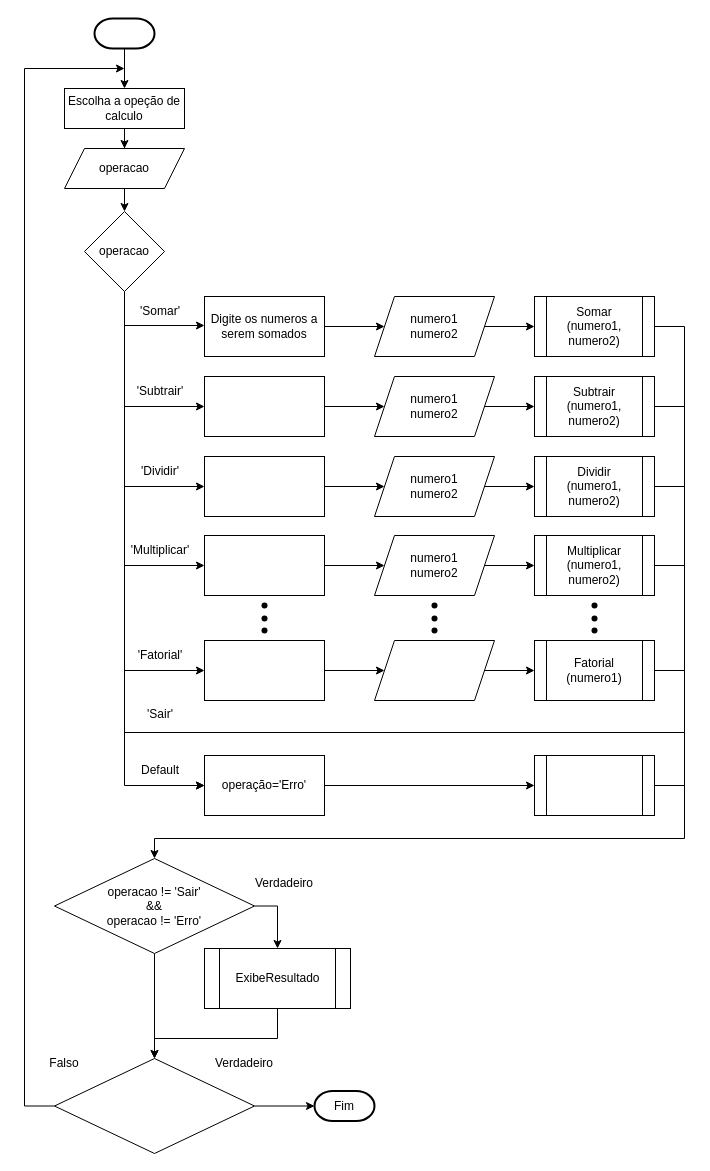
The diagram is 710 pixels wide and 1171 high, and some of its shapes have lost their labels. The box of each missing label's shape, as (x1, y1, x2, y2) in pixels:
Digite os numeros a serem dividido: (204, 456, 324, 516)
Digite os numeros a serem fatorial: (204, 640, 324, 700)
Digite os numeros a serem multiplicado: (204, 534, 324, 596)
Digite os numeros a serem subtraidos: (204, 376, 324, 436)
ExibeMensagem DeErro: (534, 754, 654, 816)
Início: (93, 17, 155, 49)
numero1: (374, 640, 494, 700)
operacao == 'Sair': (54, 1058, 254, 1154)
